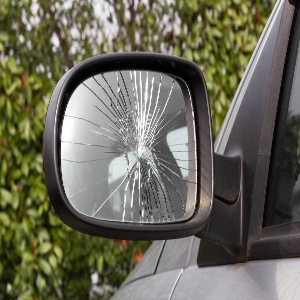door: (177, 113, 260, 193)
